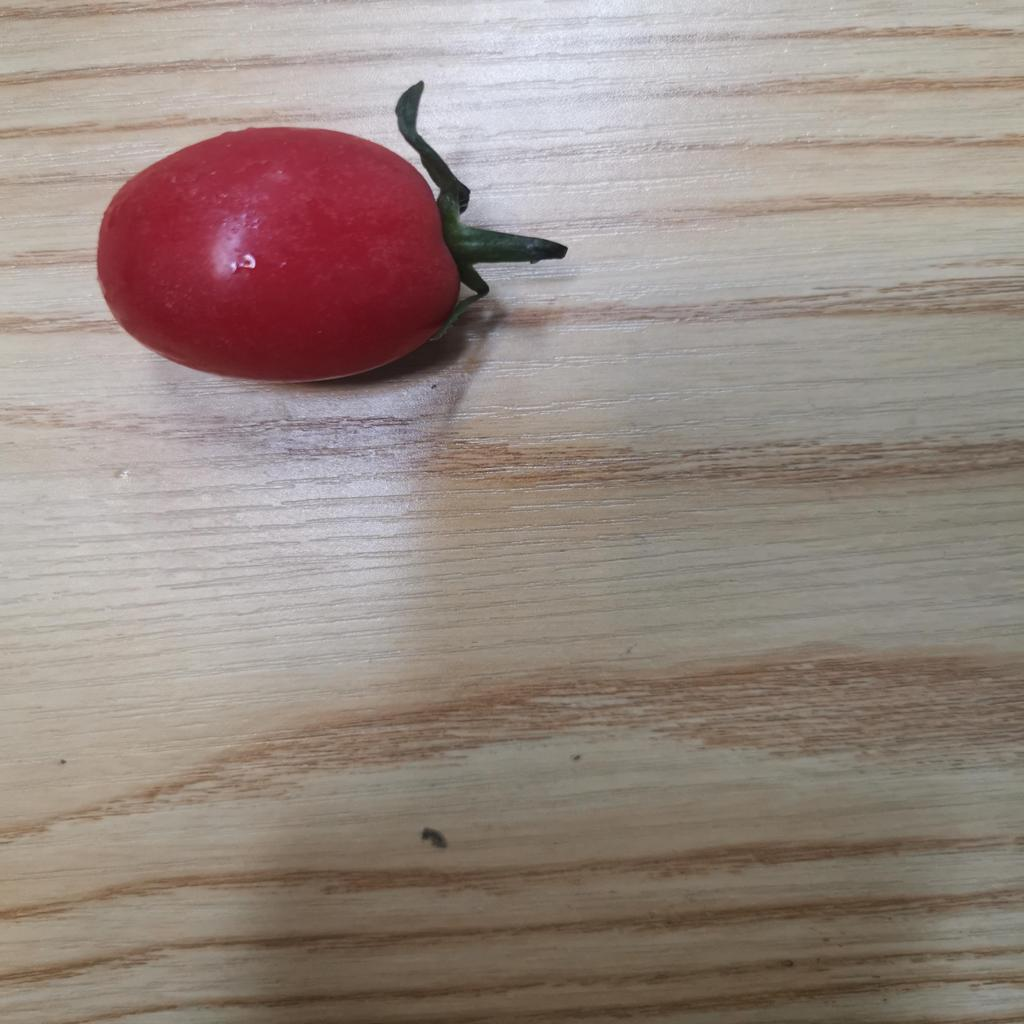tomato: (88, 121, 551, 392)
